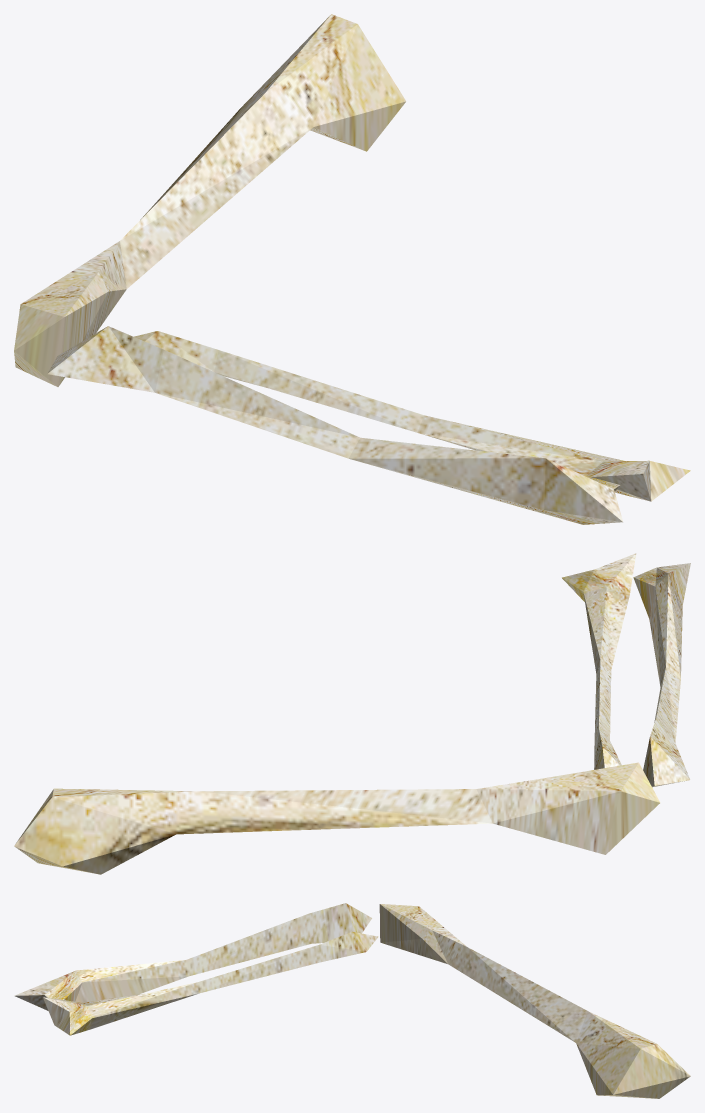
File: poi_tato_skel_krayt_arm_s01_l1.fbx
3 renders of one model, top to bottom at view 1: azimuth 30°, elevation 25°; view 2: azimuth 150°, elevation 25°; view 3: azimuth 270°, elevation 25°, orthographic. The views are drawn at different scales.
Visible parts, largest first — view 1: mesh_node; view 2: mesh_node; view 3: mesh_node.
Part boxes in pixels (x1,y1,x2,y2): mesh_node: (14, 14, 690, 524); mesh_node: (14, 553, 690, 874); mesh_node: (14, 903, 690, 1098).
Size of the model in its own units: 2.99 by 0.48 by 5.14.
Materials: 1 (1 with a texture image).
